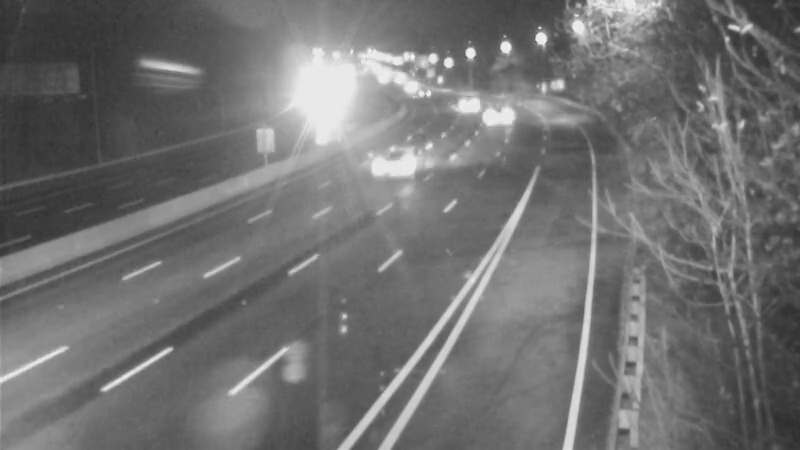vehicle: (362, 122, 442, 202), (387, 61, 437, 111), (397, 67, 447, 117), (443, 79, 493, 129), (470, 93, 520, 143), (292, 75, 342, 125)
